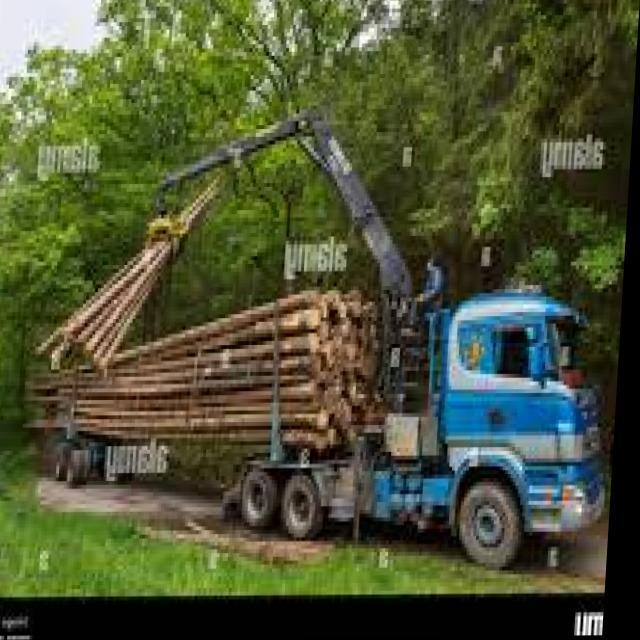uncovered: (59, 274, 610, 568)
